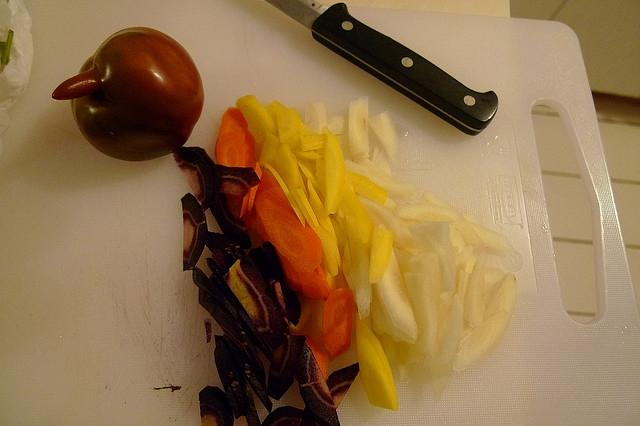carrot: (254, 173, 322, 272), (216, 106, 256, 220), (322, 288, 354, 362), (291, 333, 329, 382), (290, 293, 317, 332), (248, 162, 262, 212)
onion: (454, 274, 518, 373), (392, 245, 443, 358), (370, 246, 418, 344), (357, 194, 418, 246), (413, 223, 456, 295), (343, 156, 417, 196), (346, 218, 372, 320), (434, 292, 461, 370), (463, 254, 488, 328), (466, 219, 514, 256), (368, 110, 401, 162), (353, 155, 406, 185), (392, 201, 458, 223), (348, 96, 371, 158), (456, 246, 474, 293), (404, 362, 432, 391), (304, 102, 328, 135), (452, 223, 484, 246), (458, 270, 472, 312), (438, 292, 453, 326), (449, 224, 466, 253), (392, 240, 420, 255), (328, 116, 346, 134)
